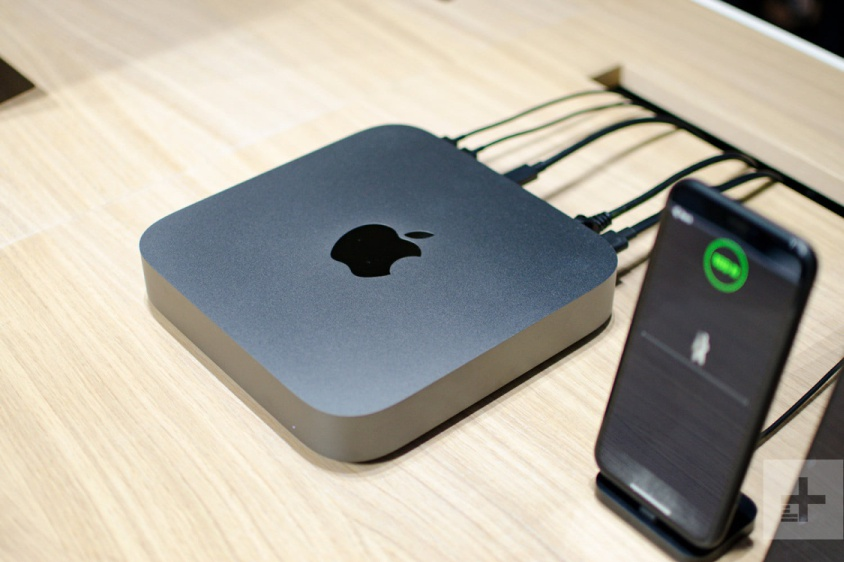apple: (309, 204, 450, 314)
